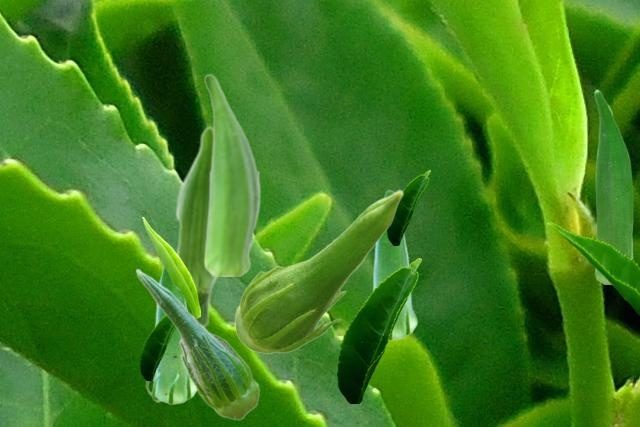okra: (234, 189, 403, 353), (135, 268, 259, 419), (203, 73, 260, 275), (171, 125, 218, 327), (594, 89, 632, 283), (145, 267, 196, 404), (372, 189, 417, 340)
